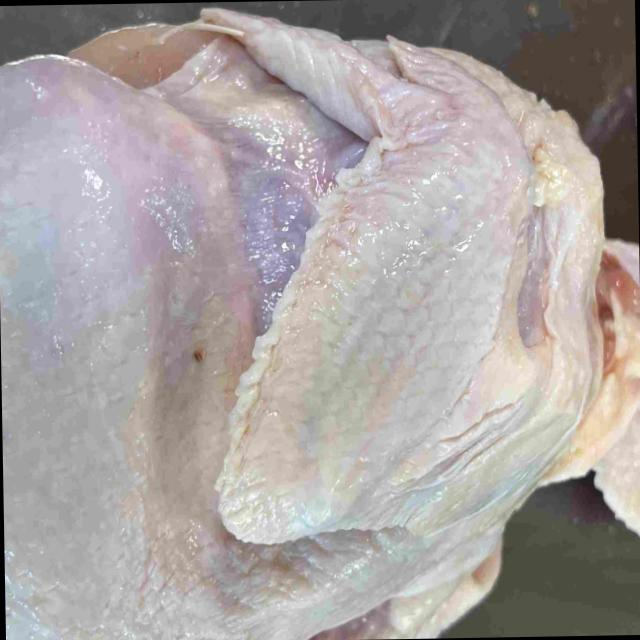back: (5, 541, 419, 640)
leg: (0, 62, 245, 616)
wing: (195, 2, 522, 549), (323, 558, 504, 640)
